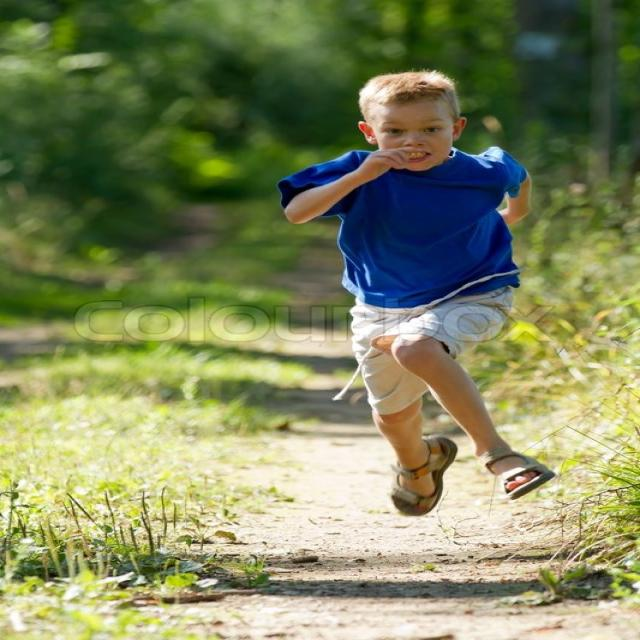Person: (283, 68, 556, 516)
